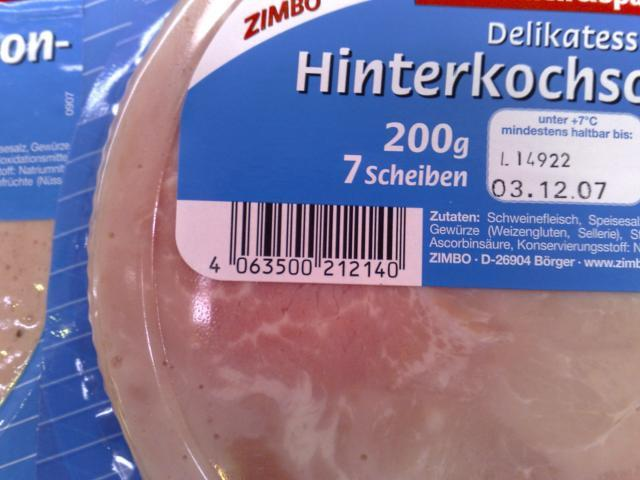Barcode: (200, 200, 420, 288)
